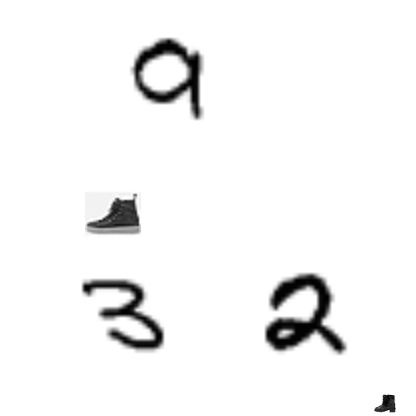2: (246, 258, 358, 370)
3: (71, 256, 183, 368)
9: (115, 15, 227, 127)
Ankle_boot: (85, 186, 141, 242), (374, 392, 396, 414)
